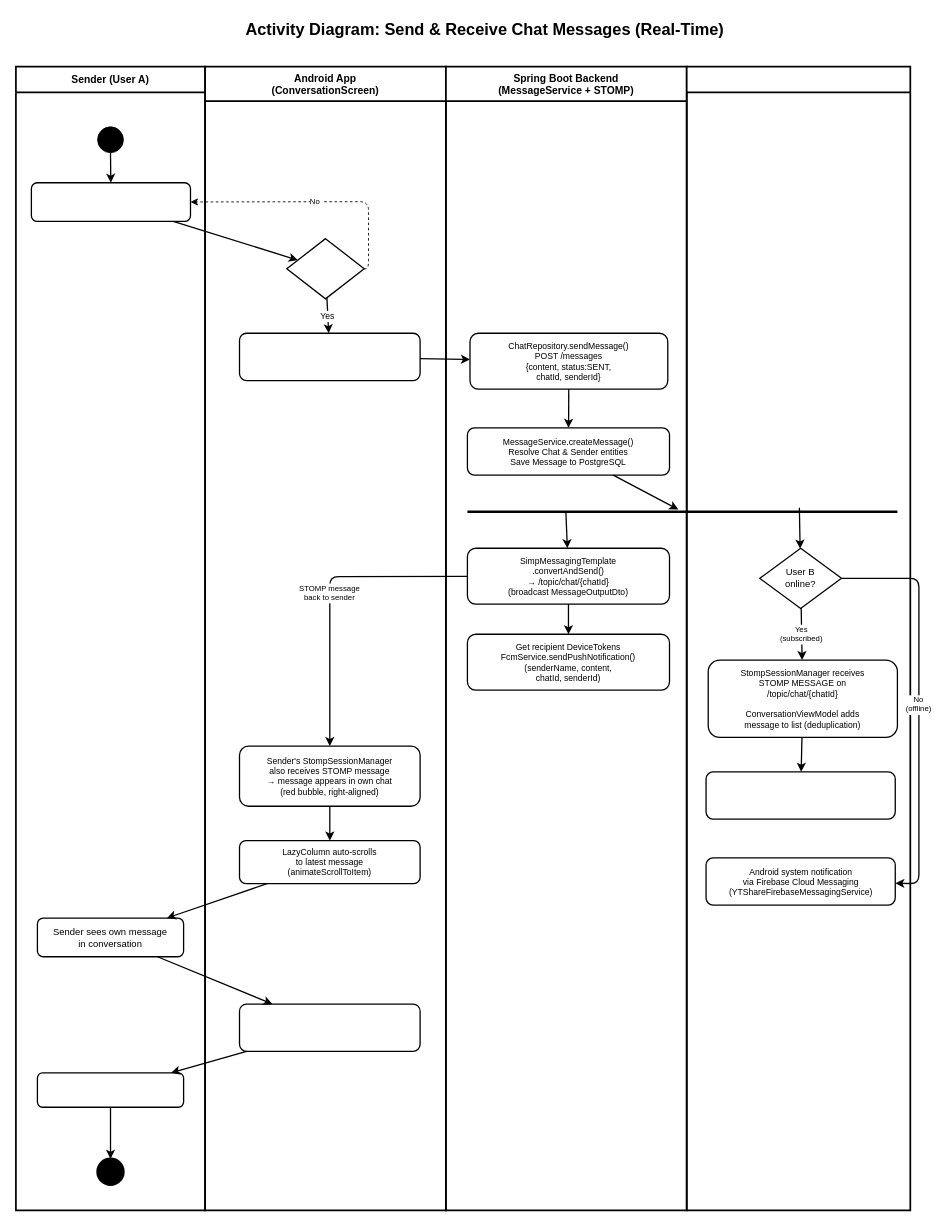
Some shapes in this 947 by 1226 pixel diagram are drawn without their labels. The shapes that lost their labels are listed below. From the top down, each one's box as (x1, y1, x2, y2) in pixels, then its label:
(30, 182, 191, 222): Type message in input field Tap Send button
(286, 238, 364, 299): Text not blank?
(238, 332, 420, 381): ConversationViewModel .sendMessage(content) Clear input field
(685, 65, 911, 1211): Receiver (User B)
(705, 771, 896, 819): Message appears in User B's ConversationScreen (dark gray bubble, left-aligned)
(238, 1003, 420, 1052): User taps Back button → viewModel.unsubscribe() Cancel STOMP subscription
(36, 1072, 184, 1108): Navigate back to FriendsScreen
